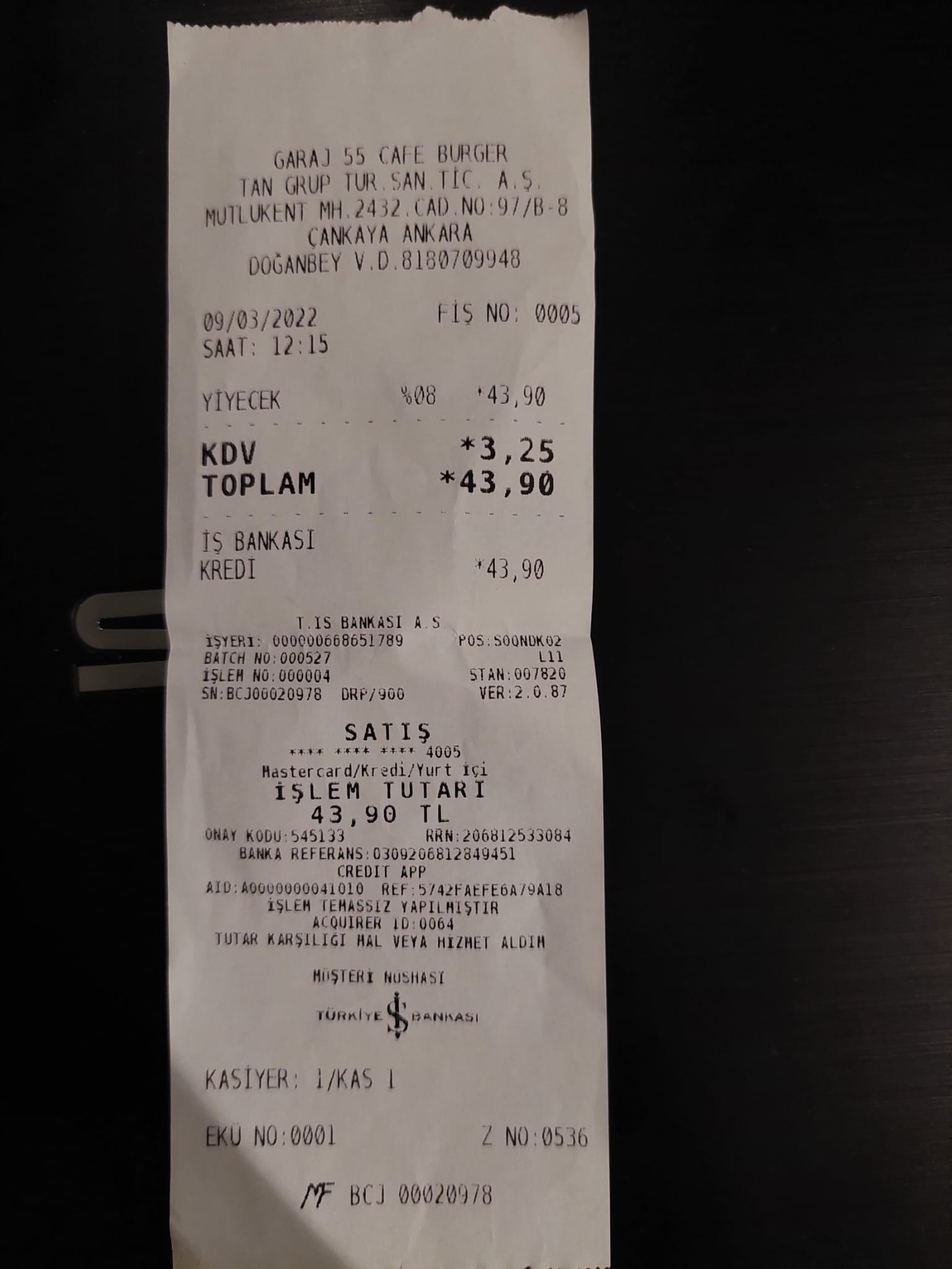date: (200, 303, 323, 334)
price: (454, 466, 567, 507)
workplace: (198, 135, 576, 248)
